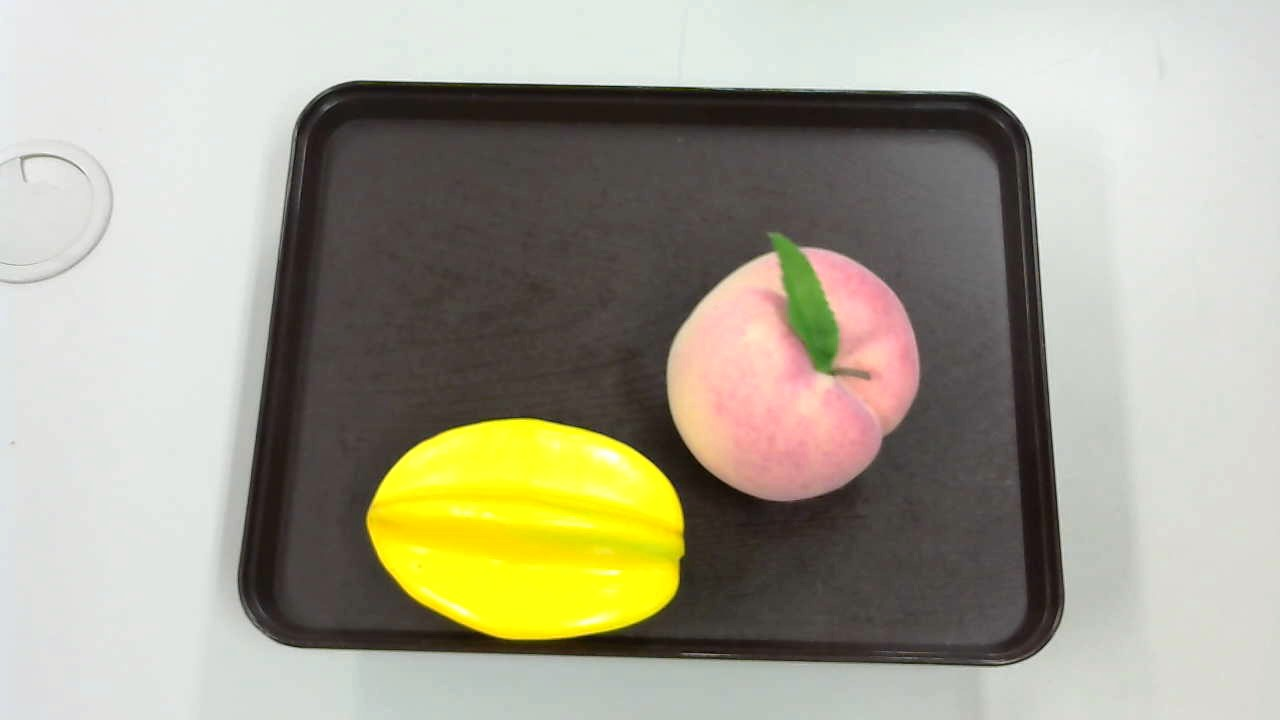peach: (658, 234, 928, 504)
star fruit: (359, 413, 689, 639)
